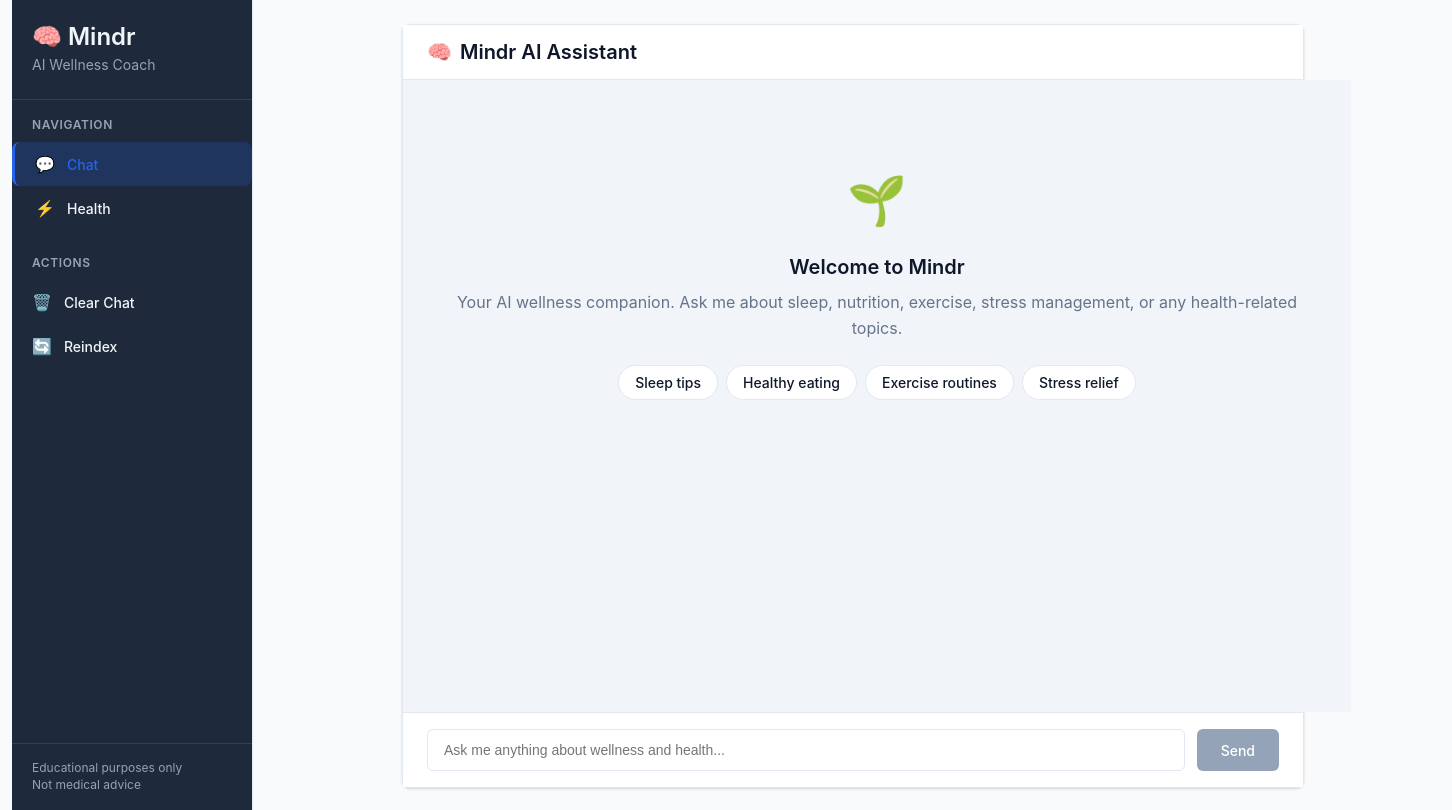
it: Health Component › handles API errors gracefully
The image size is (1452, 810).
// Navigate to health view
Click the button "⚡ Health".
click(132, 208)  # box [12,186,252,230]
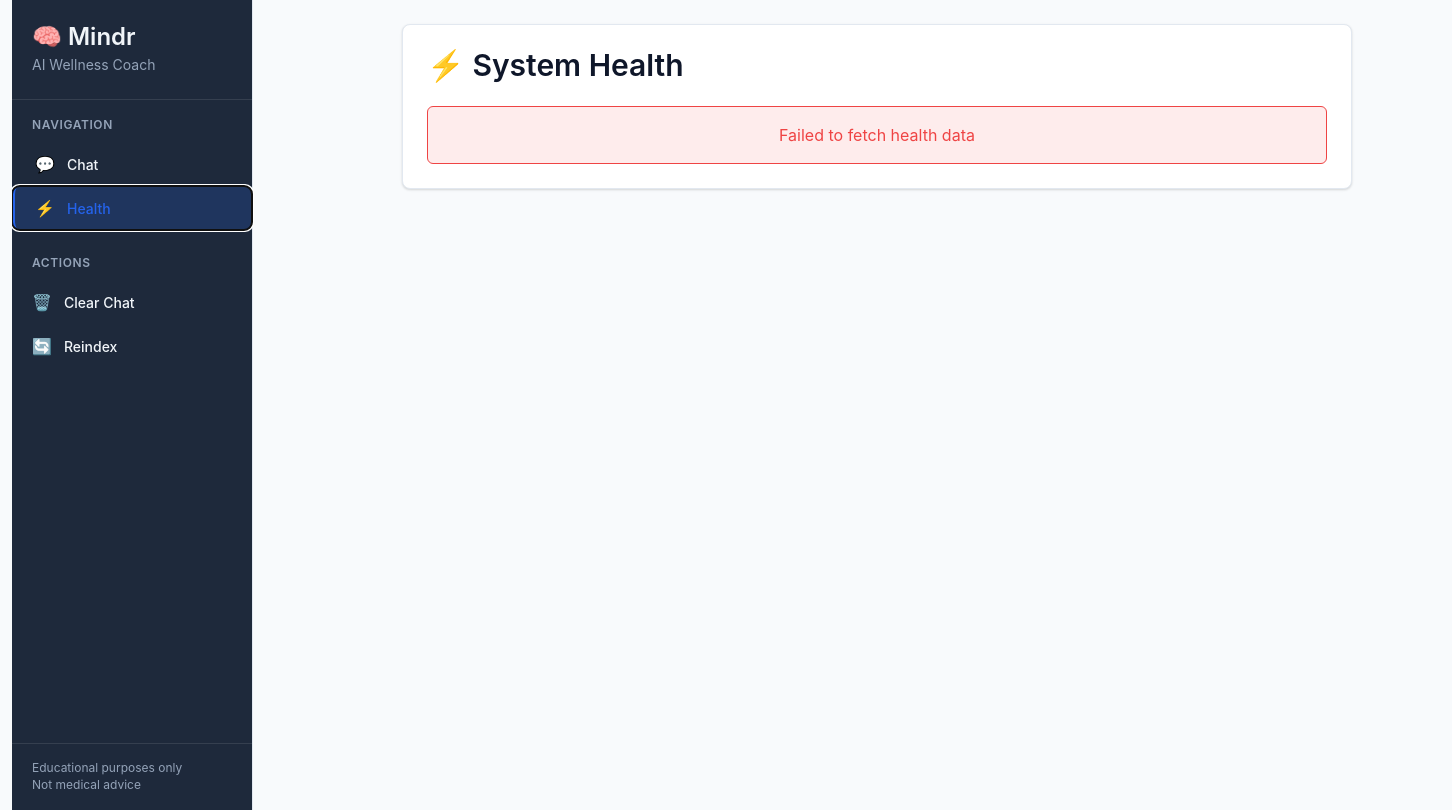
Expected: the text "Failed to fetch health data" is shown, [427,106,1327,164]
